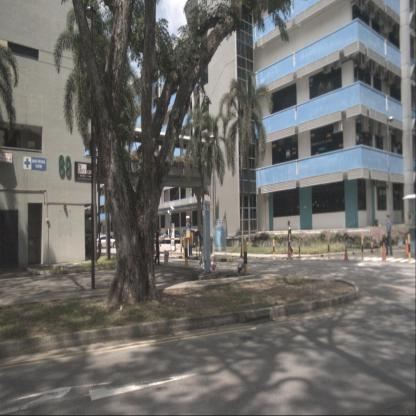human-pedestrian-adult: (198, 226, 206, 269), (385, 214, 393, 256), (154, 227, 162, 265), (287, 220, 294, 255)
movable_object-trafficcone: (342, 244, 350, 262), (381, 242, 387, 264), (287, 245, 293, 261), (404, 239, 409, 256), (240, 243, 244, 259), (152, 243, 156, 256), (156, 244, 158, 256)
vehicle-car: (95, 235, 118, 250), (165, 228, 183, 244)
